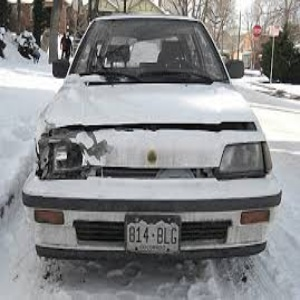head_lights: (30, 125, 109, 183)
